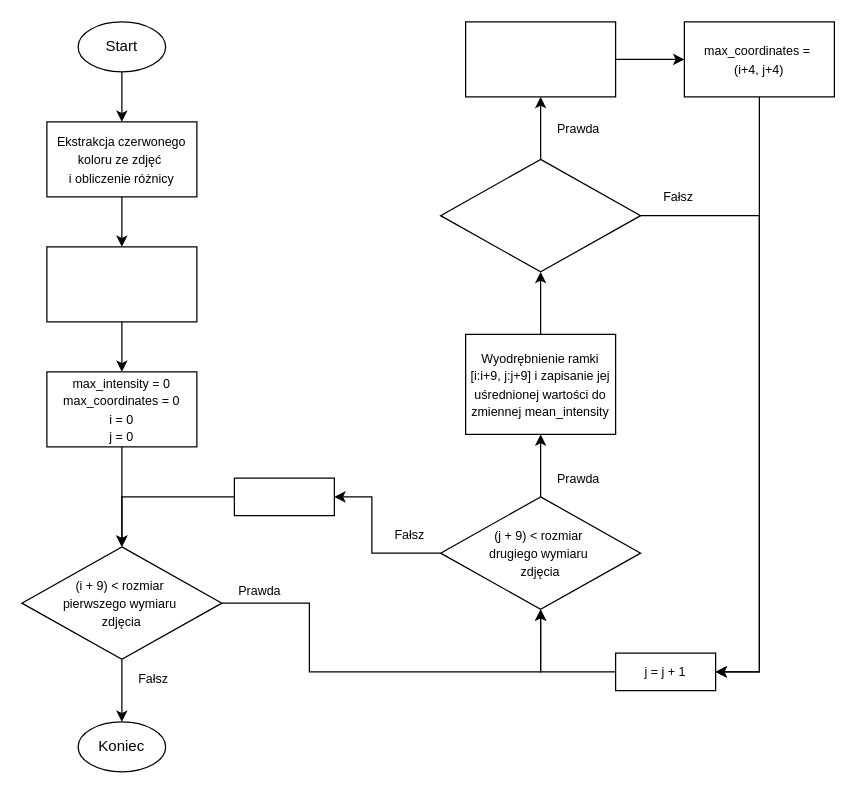
The diagram is 856 pixels wide and 794 high, and some of its shapes have lost their labels. Here are the shapes that lost their labels. From the top down, the box of each, then its label:
(464, 21, 616, 97): max_intensity = mean_intensity
(439, 158, 641, 272): mean_intensity > max_intensity
(46, 246, 197, 322): Zastosowanie filtra uśredniąjącego
(233, 477, 334, 516): i = i + 1
